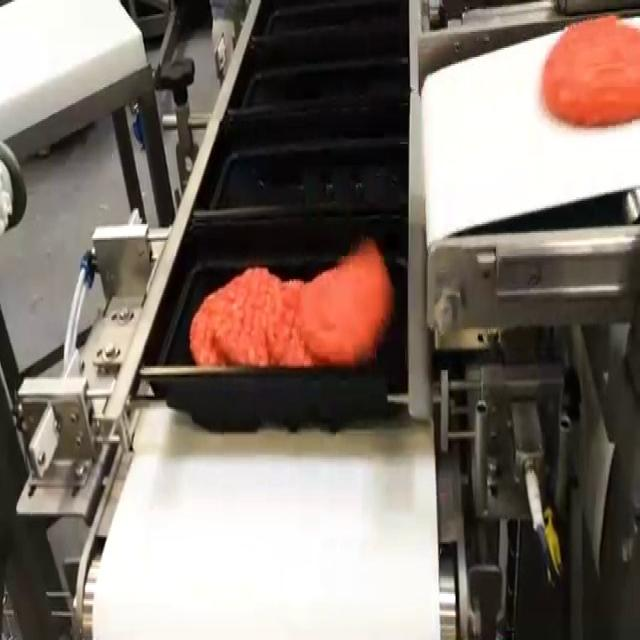4-hamburguer: (190, 240, 393, 364)
